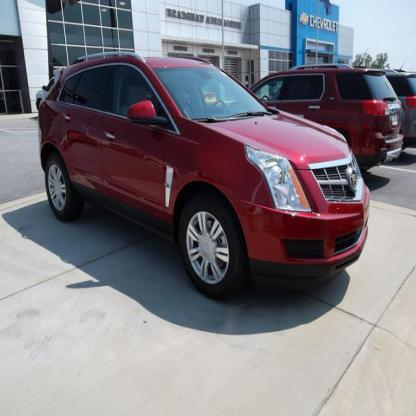Vehicle: (40, 58, 370, 298)
